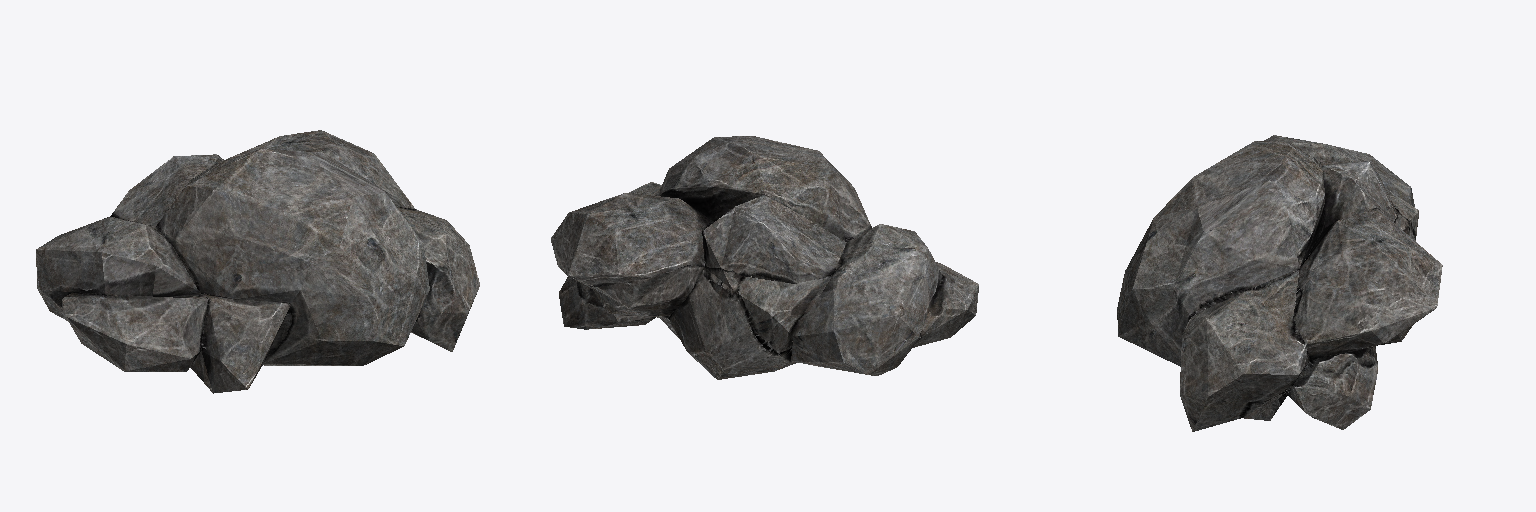
The picture shows the model from 3 angles: view 1: azimuth 30°, elevation 25°; view 2: azimuth 150°, elevation 25°; view 3: azimuth 270°, elevation 25°; orthographic projection.
Visible parts, largest first — view 1: Rocks_02; view 2: Rocks_02; view 3: Rocks_02.
Boxes of the visible parts, x1=… form: Rocks_02: x1=36, y1=130, x2=479, y2=393; Rocks_02: x1=551, y1=136, x2=978, y2=379; Rocks_02: x1=1117, y1=135, x2=1442, y2=431.
Bounding box in the file's own units: 136 × 67.58 × 97.92.
1 materials, 1 textured.